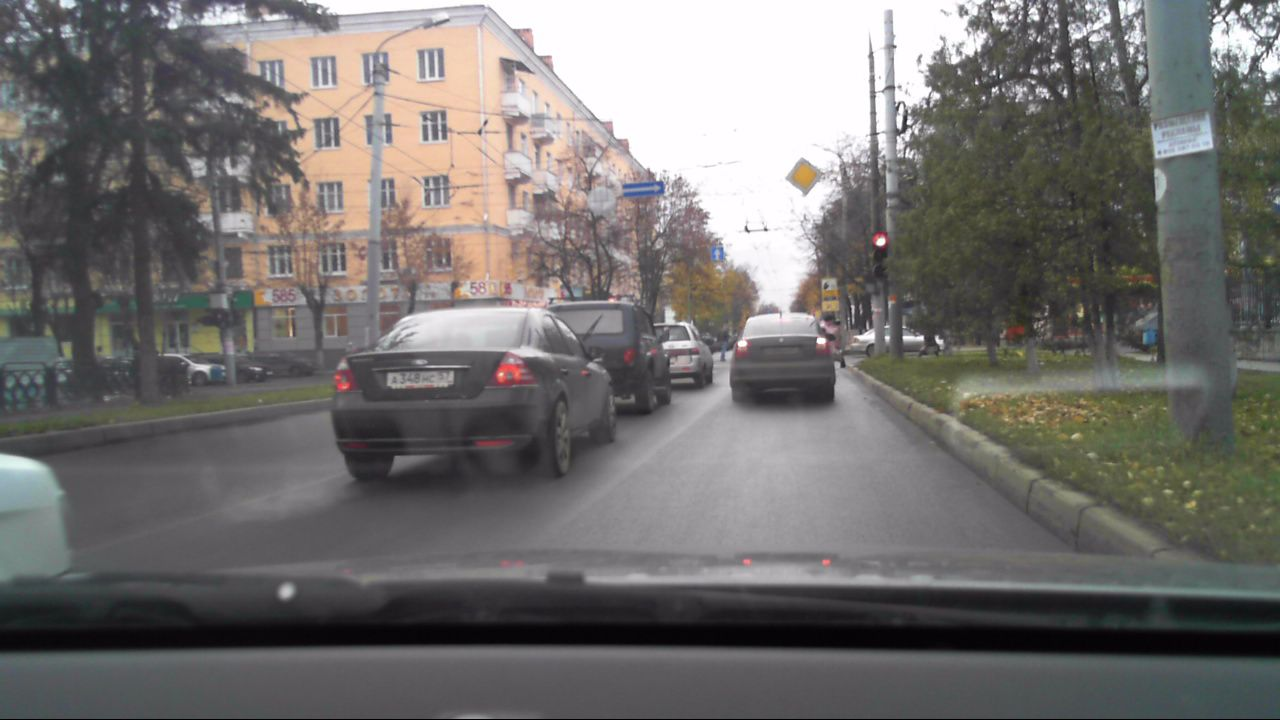One-Way Traffic: (623, 181, 664, 196)
